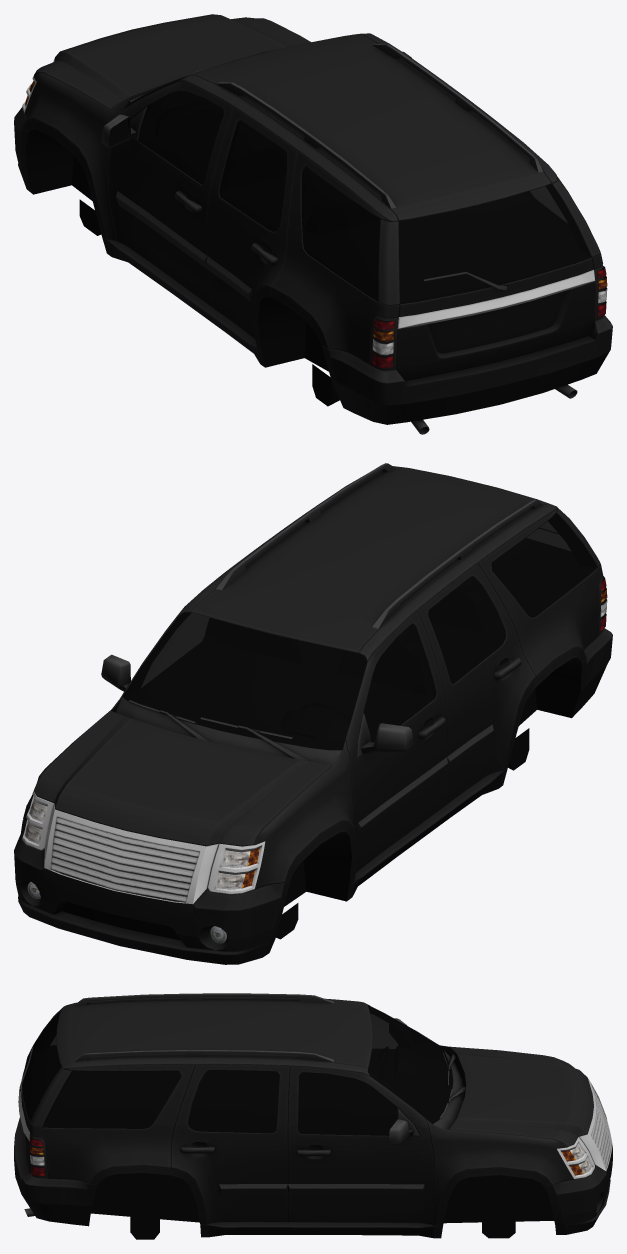
Rendered from chassis.glb.
3 views of the same model, one above another, from view 1: azimuth 30°, elevation 25°; view 2: azimuth 150°, elevation 25°; view 3: azimuth 270°, elevation 25° (orthographic). The views are drawn at different scales.
Visible parts, largest first — view 1: SUV Body_Body_0, SUV Body_Glass_0, SUV Body_Optics_0; view 2: SUV Body_Body_0, SUV Body_Glass_0, SUV Body_Optics_0; view 3: SUV Body_Body_0, SUV Body_Glass_0, SUV Body_Optics_0.
Boxes of the visible parts, x1,y1,x2,y2 form: SUV Body_Body_0: [14, 14, 612, 434]; SUV Body_Glass_0: [123, 49, 591, 304]; SUV Body_Optics_0: [25, 81, 607, 368]; SUV Body_Body_0: [14, 463, 612, 964]; SUV Body_Glass_0: [122, 513, 597, 750]; SUV Body_Optics_0: [25, 576, 607, 943]; SUV Body_Body_0: [14, 993, 612, 1239]; SUV Body_Glass_0: [22, 1005, 453, 1135]; SUV Body_Optics_0: [30, 1136, 591, 1176].
Bounding box in the file's own units: 2.23 × 1.66 × 4.98.
3 materials, 2 textured.
